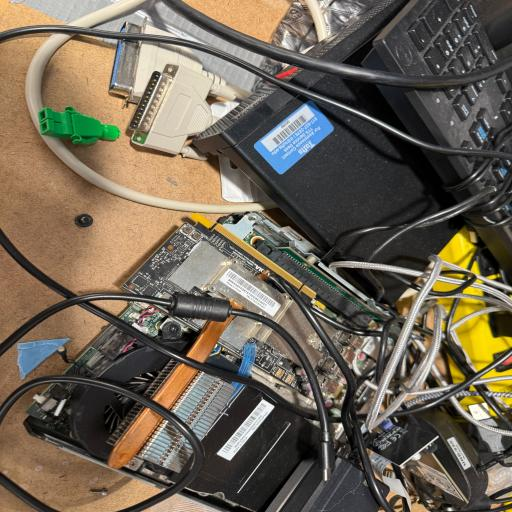Lego-Dude: (36, 102, 127, 152)
